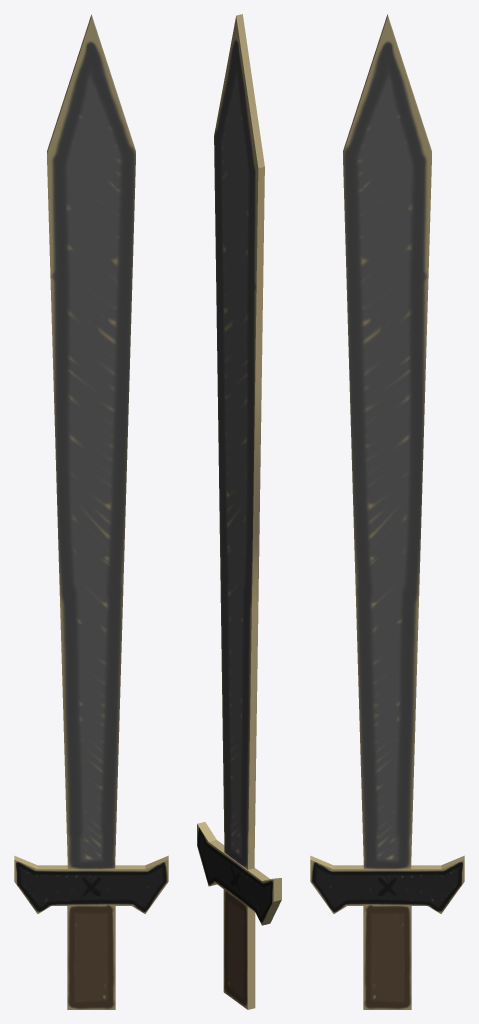
File: 2perun.glb
The picture shows the model from 3 angles, left to right: view 1: azimuth 90°, elevation 25°; view 2: azimuth 210°, elevation 25°; view 3: azimuth 270°, elevation 25°; orthographic projection.
Parts seen in each view (by area): view 1: Blender; view 2: Blender; view 3: Blender.
Boxes of the visible parts, left/top/right/bottom form: Blender: left=14, top=14, right=168, bottom=1009; Blender: left=197, top=14, right=281, bottom=1009; Blender: left=310, top=14, right=464, bottom=1009.
Size of the model in its own units: 0.1086 by 12.36 by 1.74.
Materials: 1 (1 with a texture image).
